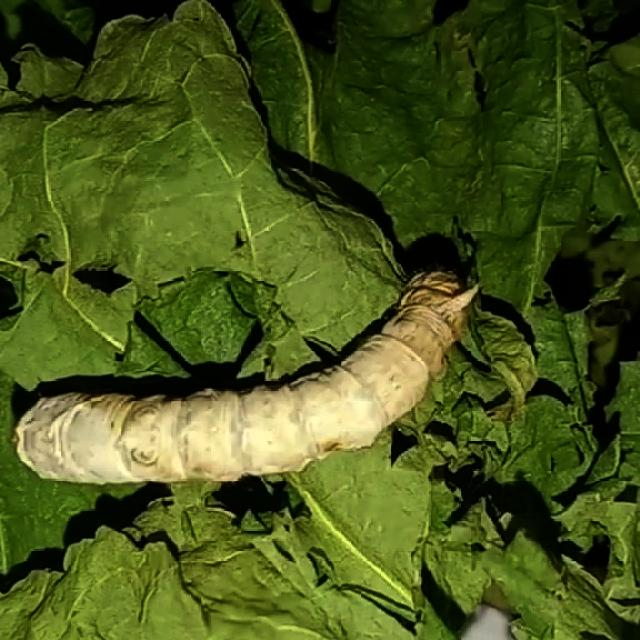Grasserie: (2, 235, 490, 503)
